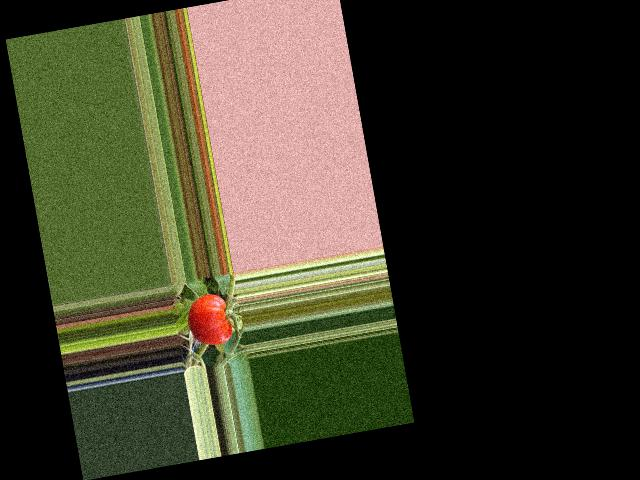tomato: (183, 291, 234, 349)
